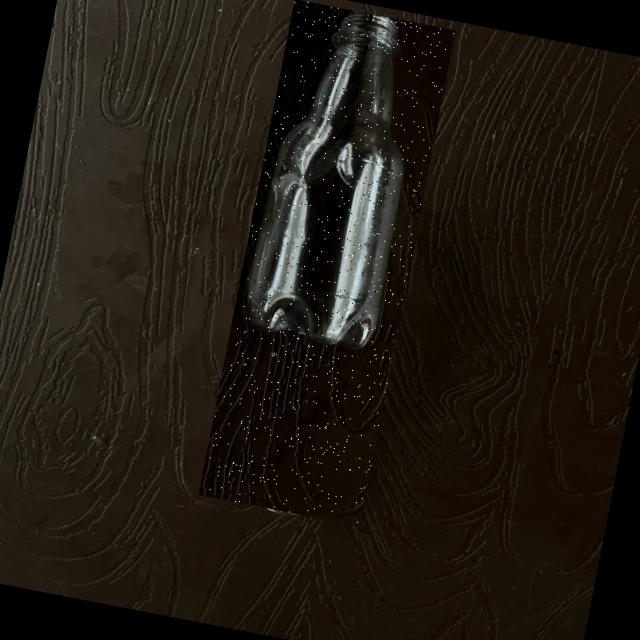PET_ClearBottle: (198, 0, 455, 525)
